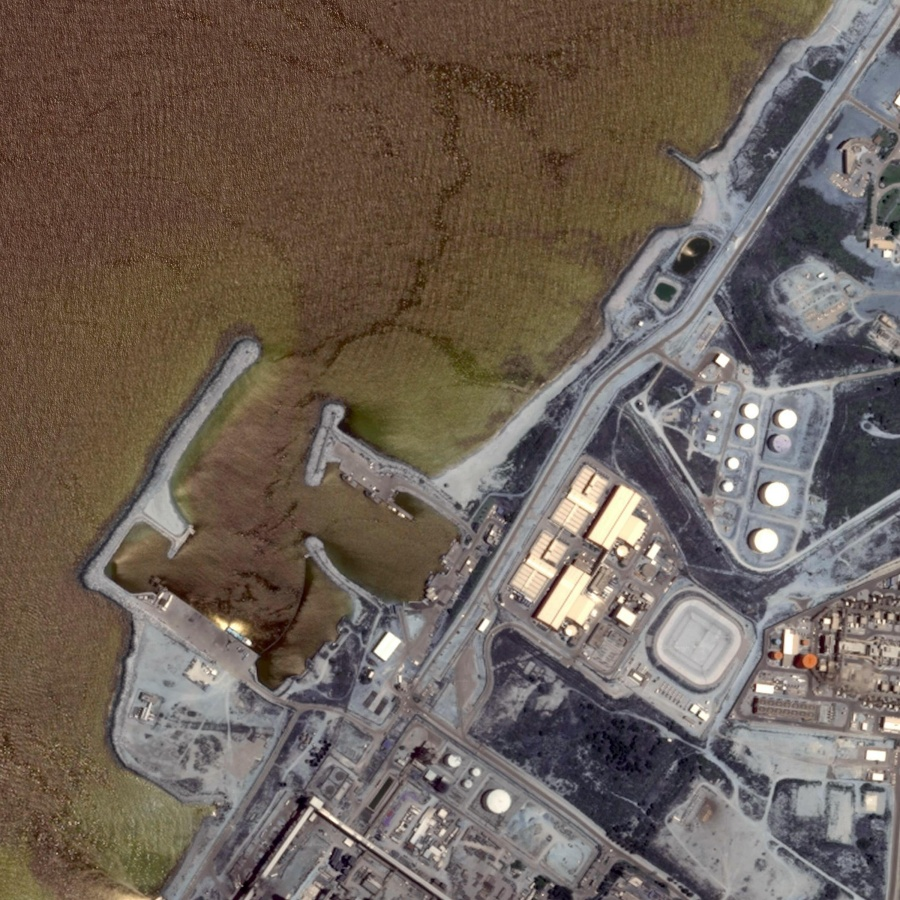PowerPlant: (638, 352, 870, 566)
